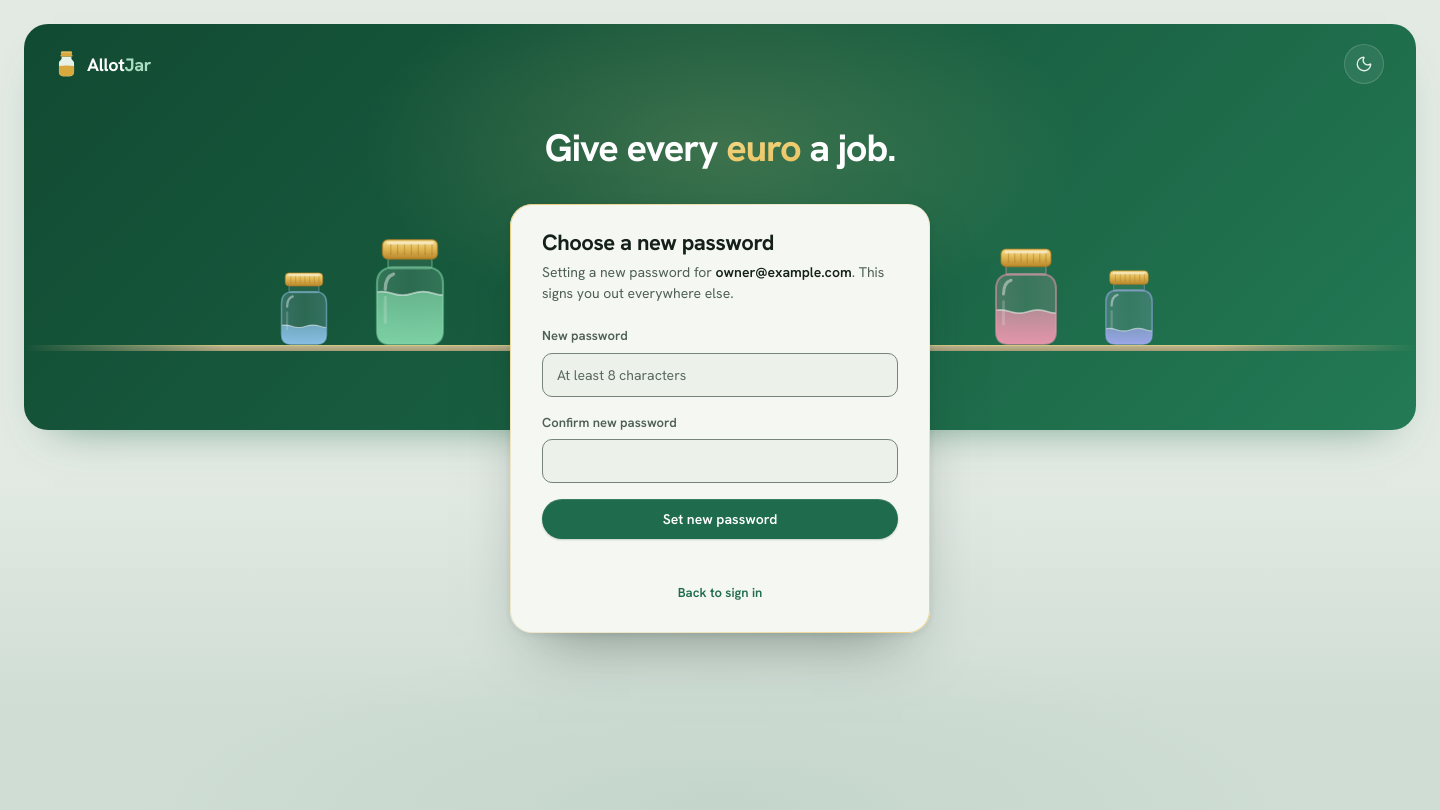
Test: ResetPasswordPage (catalog REG-063/REG-065) › REG-065: mismatched passwords never reach the server
The image size is (1440, 810).
In the password field labelled "New password": [720, 375] box x1=542 y1=353 x2=898 y2=397, type "Aa1-fresh-secret"
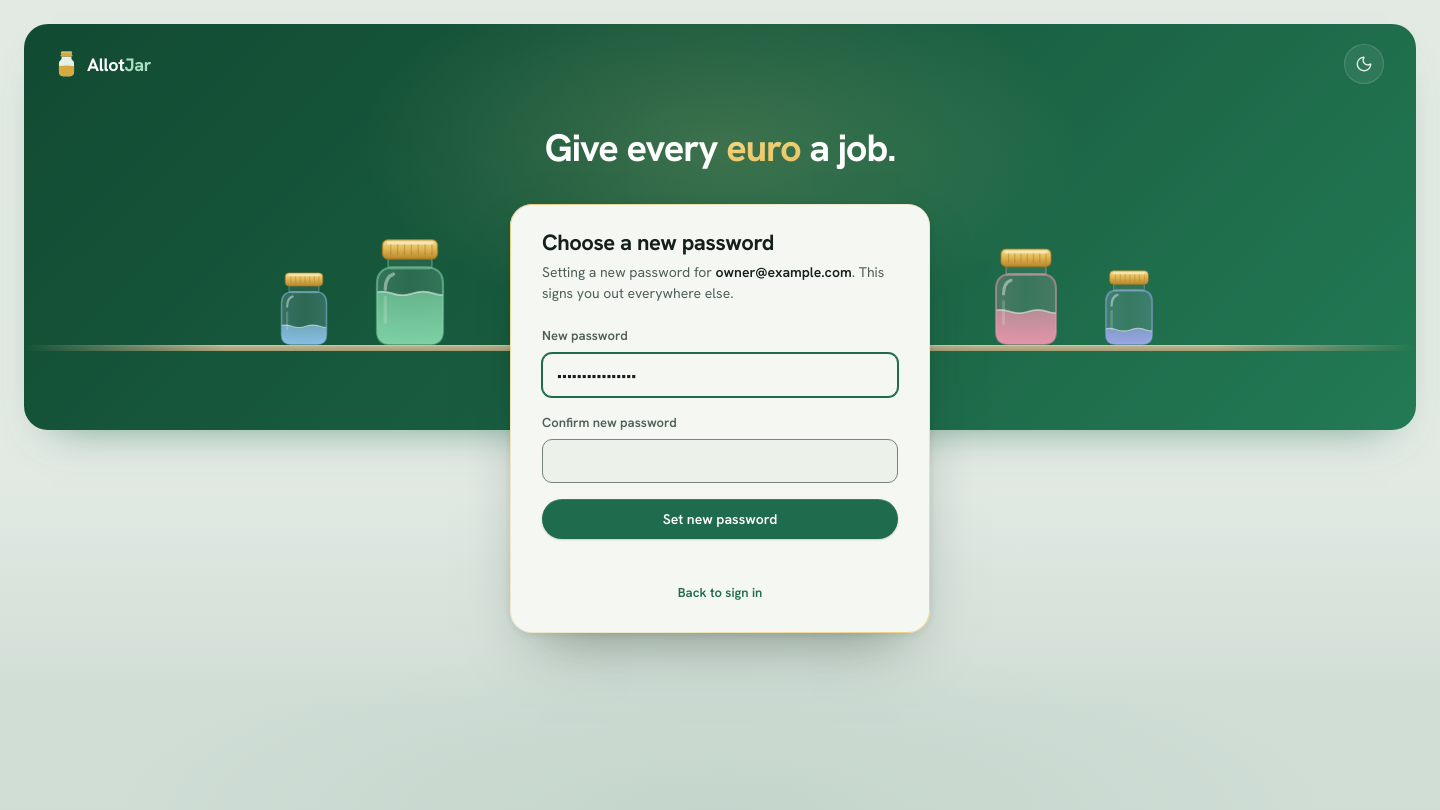
In the password field labelled "Confirm new password": [720, 461] box x1=542 y1=439 x2=898 y2=483, type "Aa1-different"
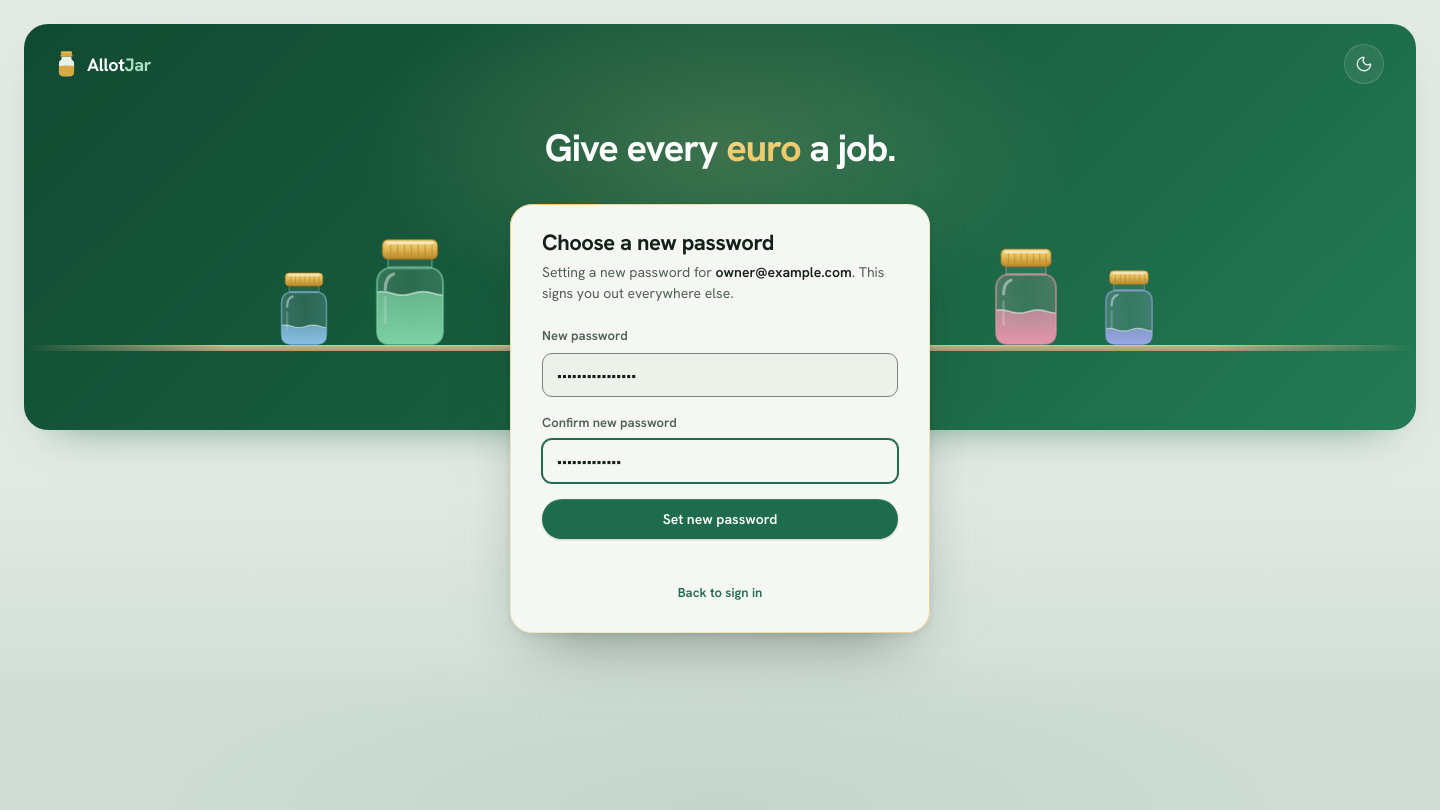
Click the button "Set new password": [720, 519] box x1=542 y1=499 x2=898 y2=539
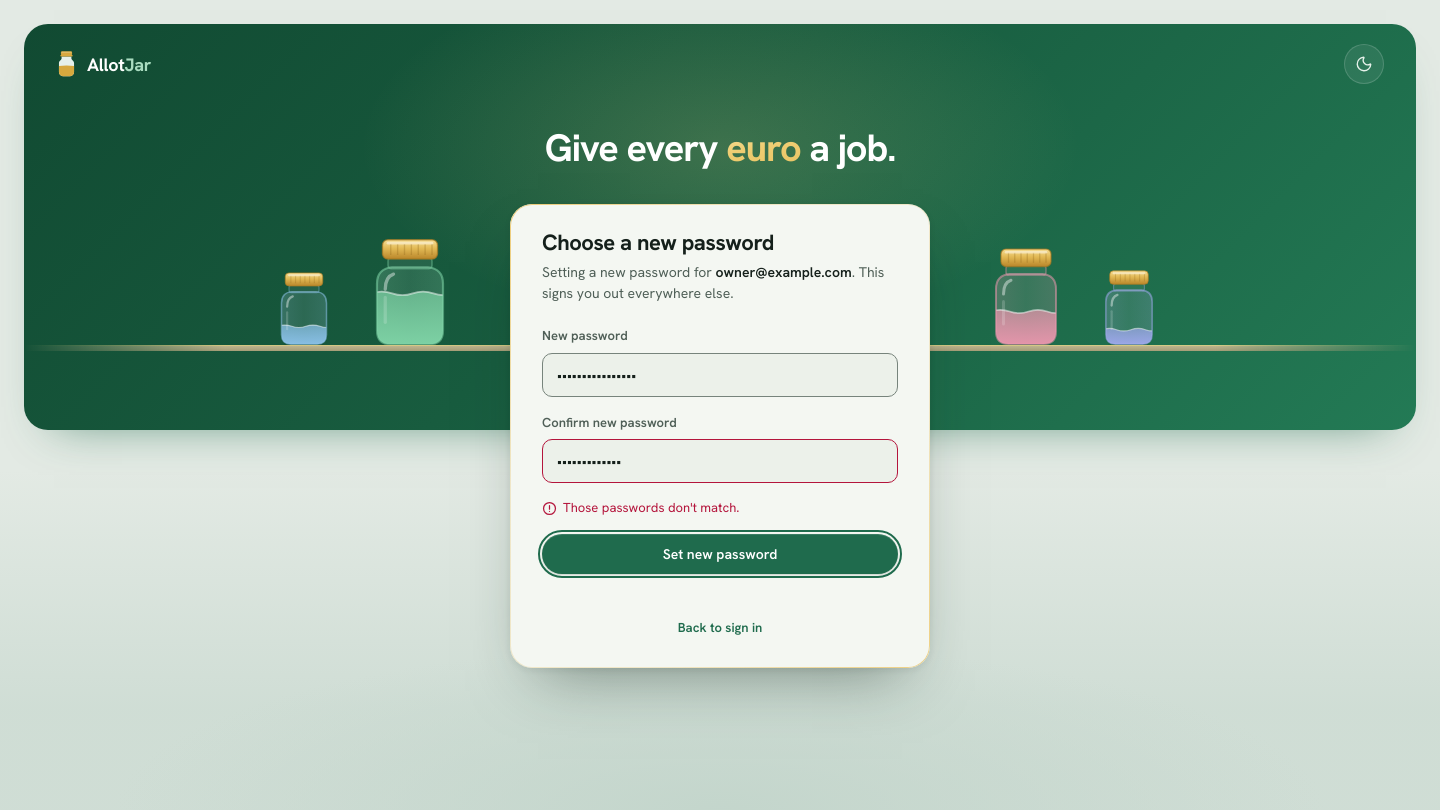
Expected: the message shows "don't match", x1=563 y1=499 x2=739 y2=516
